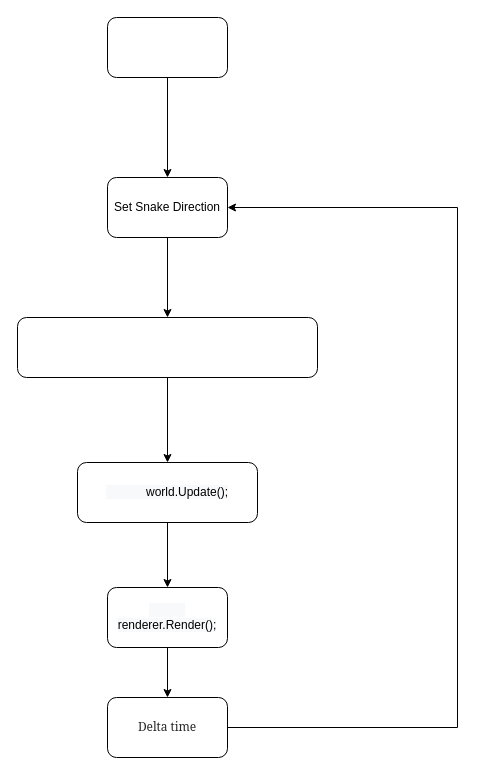
Some shapes in this 483 by 775 pixel diagram are drawn without their labels. The box of each missing label's shape, as (x1, y1, x2, y2) in pixels:
renderer.Render_Blank();: (16, 316, 318, 378)
Start: (106, 16, 228, 78)
